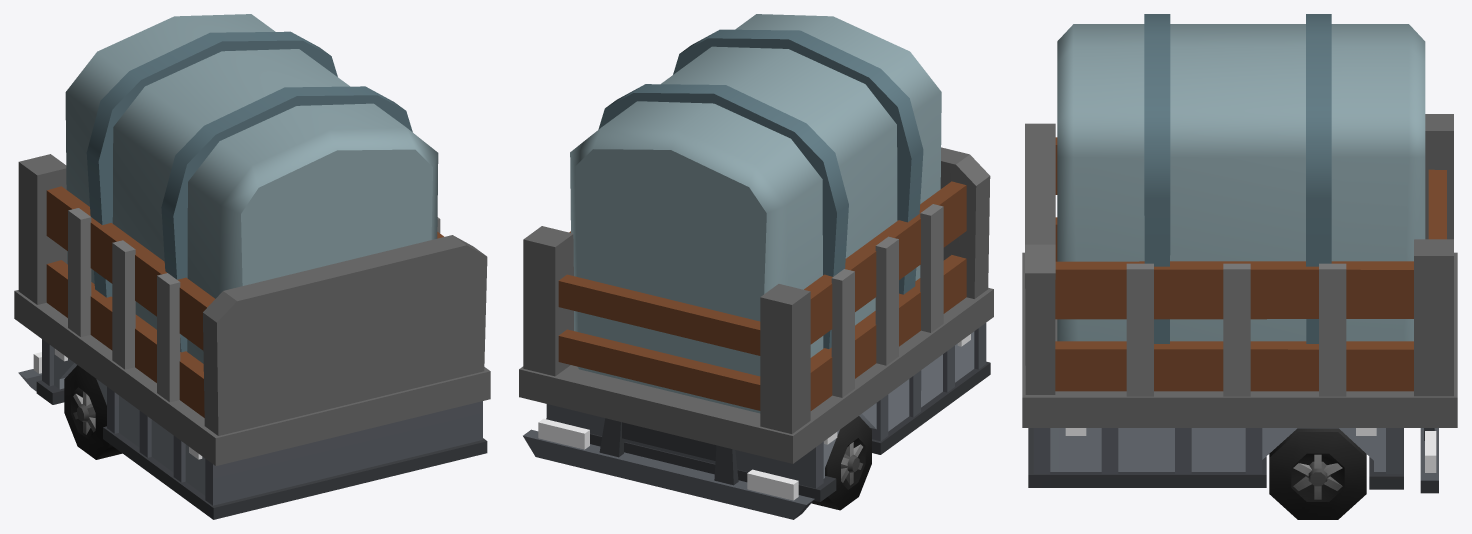
Rendered from cargo_02_B_2.fbx.
3 views of the same model, side by side, from view 1: azimuth 30°, elevation 25°; view 2: azimuth 150°, elevation 25°; view 3: azimuth 270°, elevation 25° (orthographic). The views are drawn at different scales.
Visible parts, largest first — view 1: cargo_02_B_2; view 2: cargo_02_B_2; view 3: cargo_02_B_2.
Boxes of the visible parts, x1,y1,x2,y2 form: cargo_02_B_2: (14,14,490,519); cargo_02_B_2: (519,14,993,519); cargo_02_B_2: (1022,14,1457,519).
Size of the model in its own units: 13.41 by 17.29 by 16.43.
